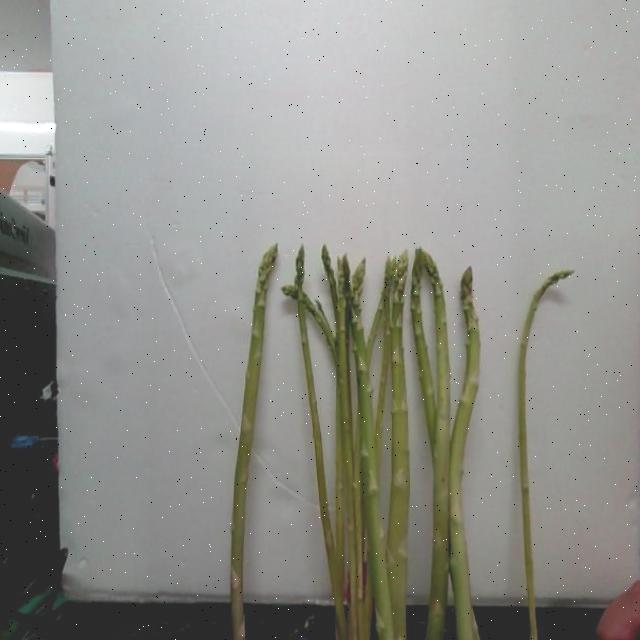aspargus: (518, 269, 574, 640), (230, 248, 278, 640), (450, 268, 481, 640)
